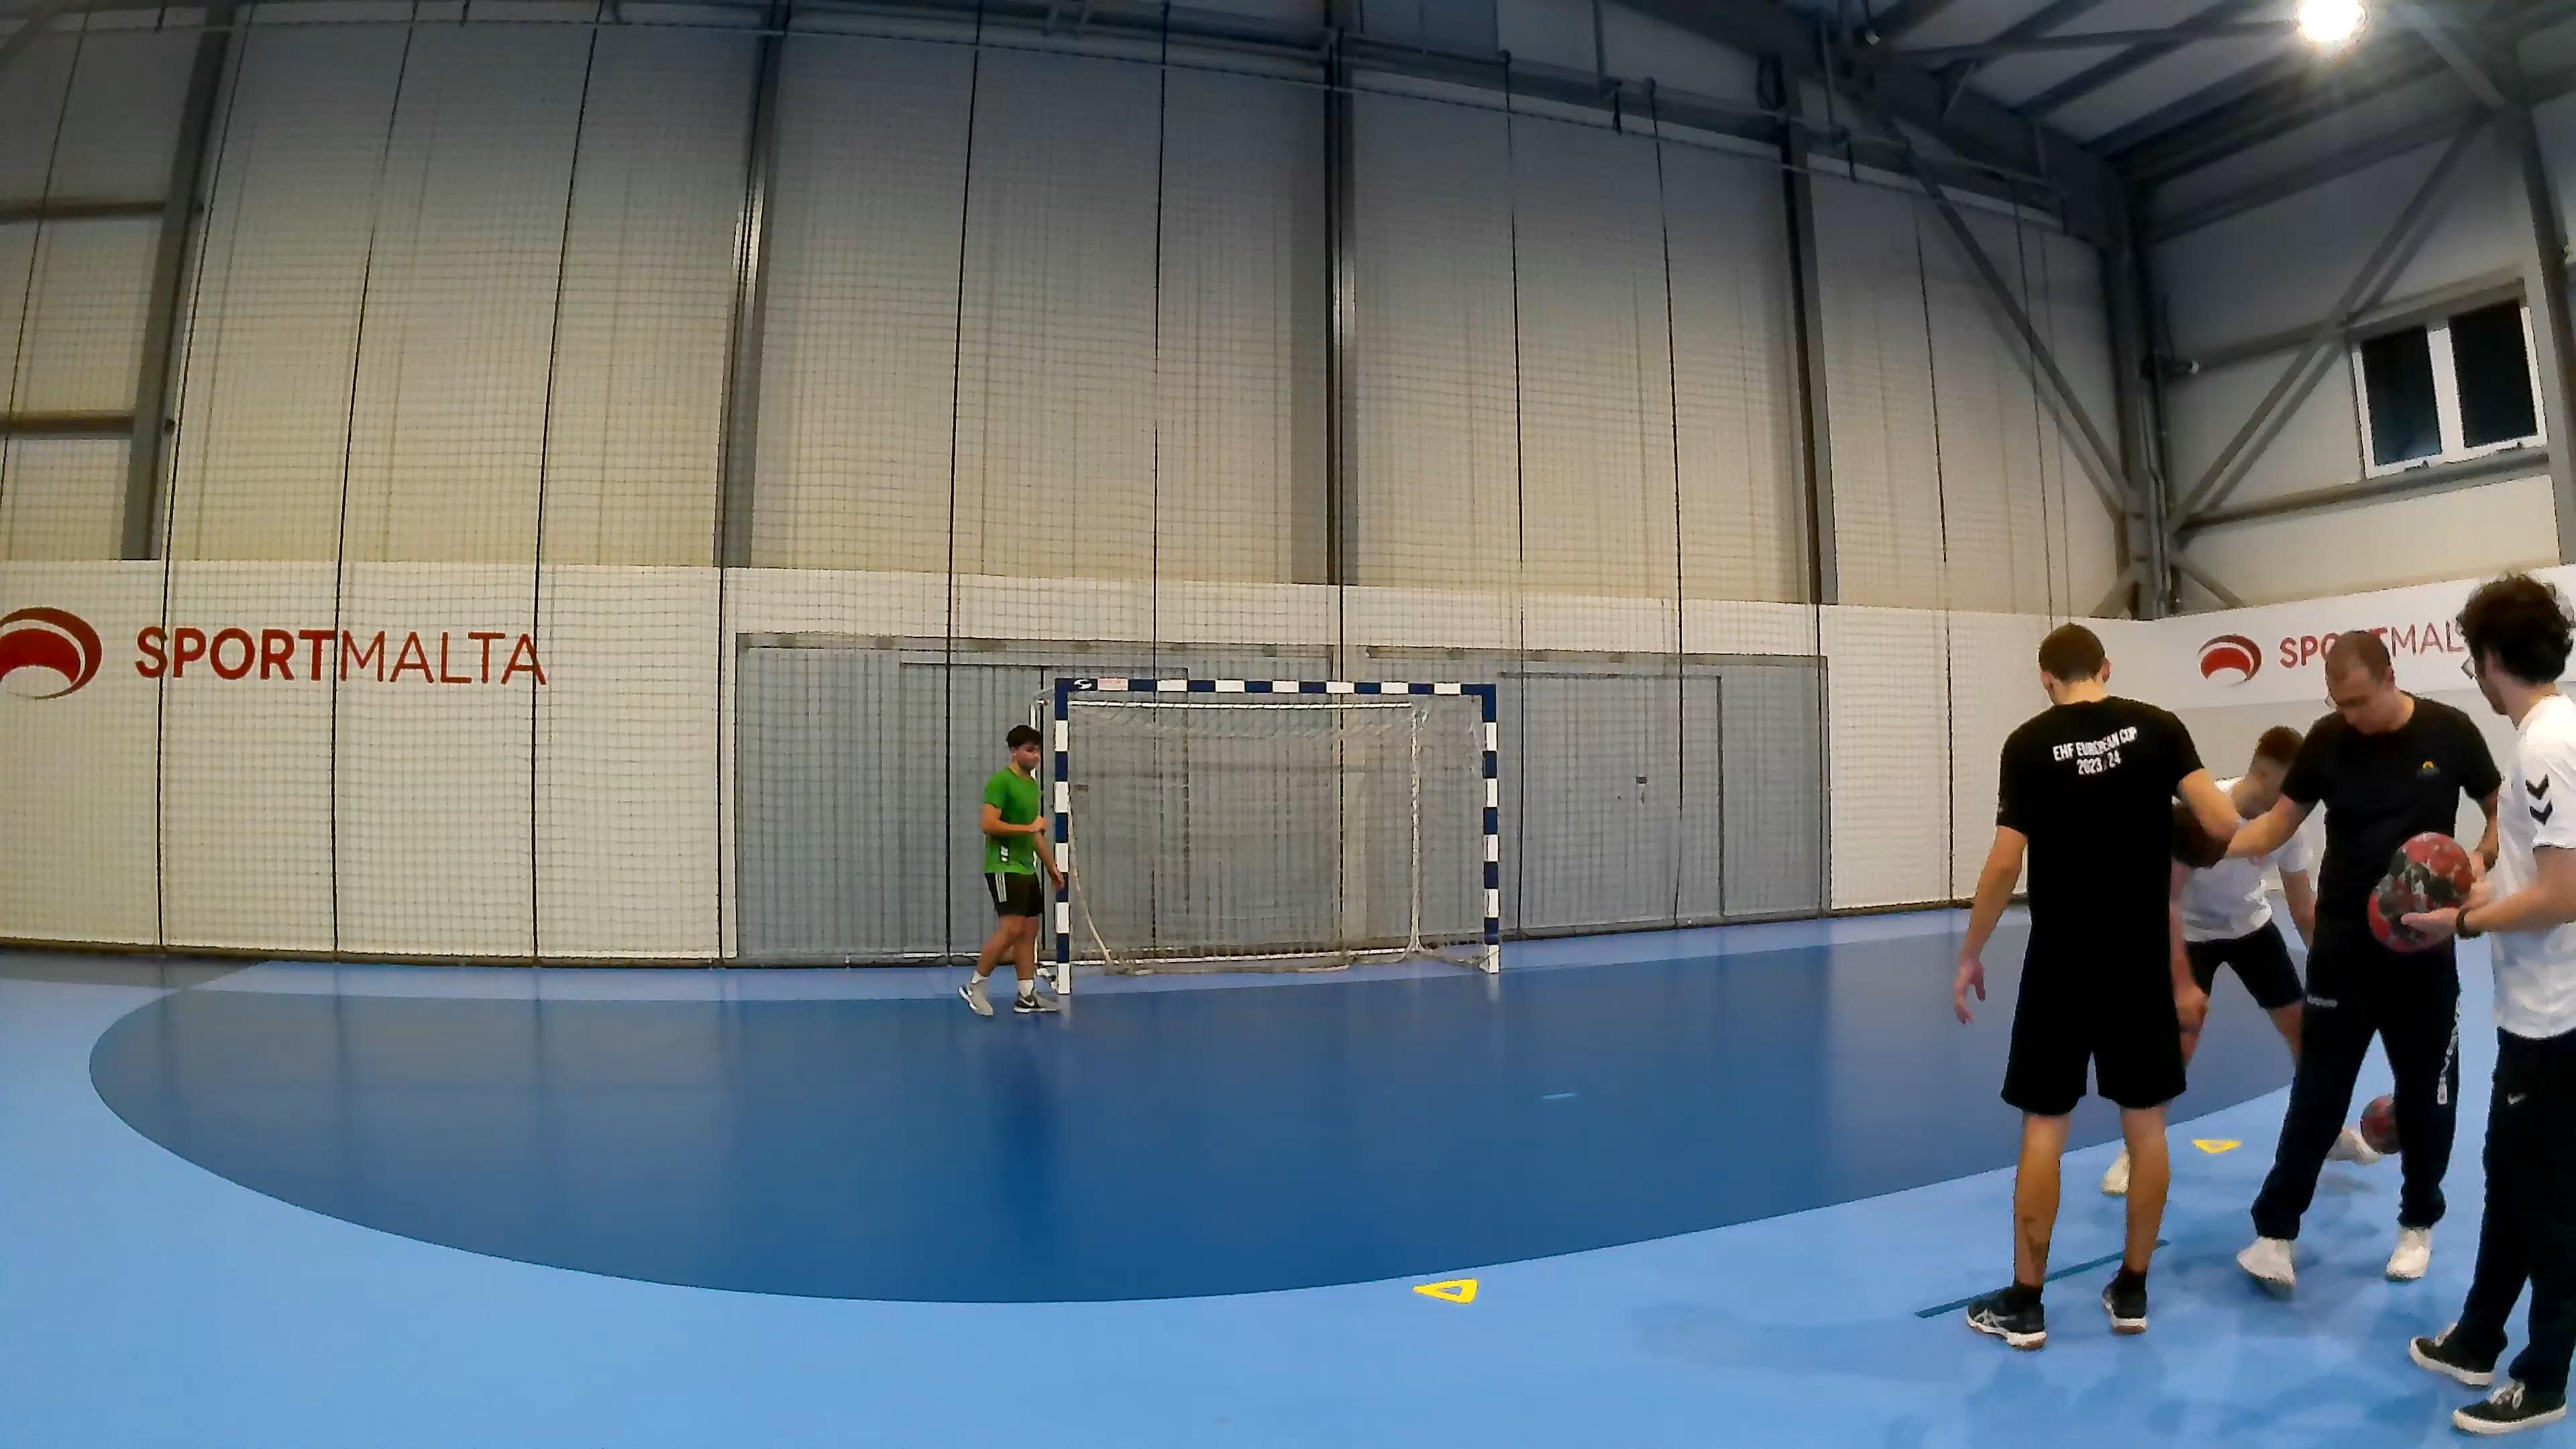handball: (2367, 830, 2475, 954)
